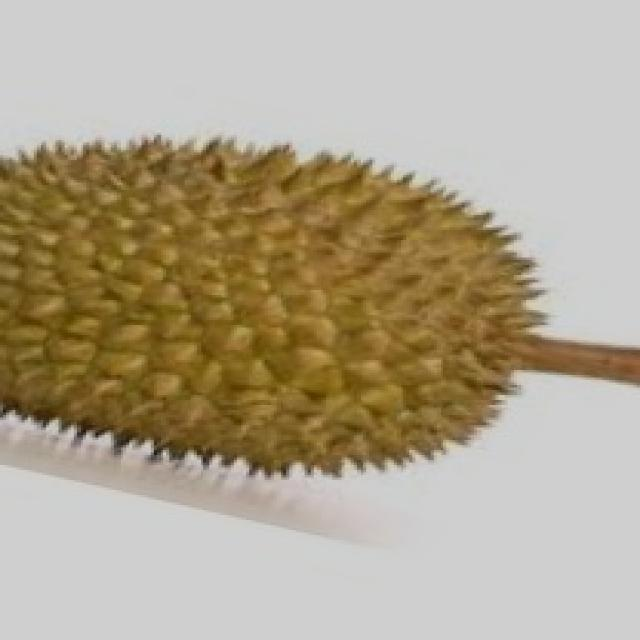fruit: (222, 110, 603, 535), (0, 100, 354, 532)
